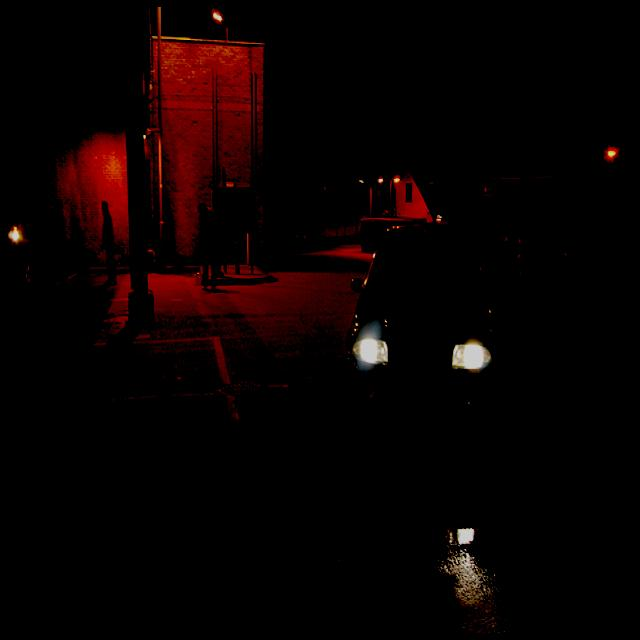Car: (344, 225, 503, 431)
